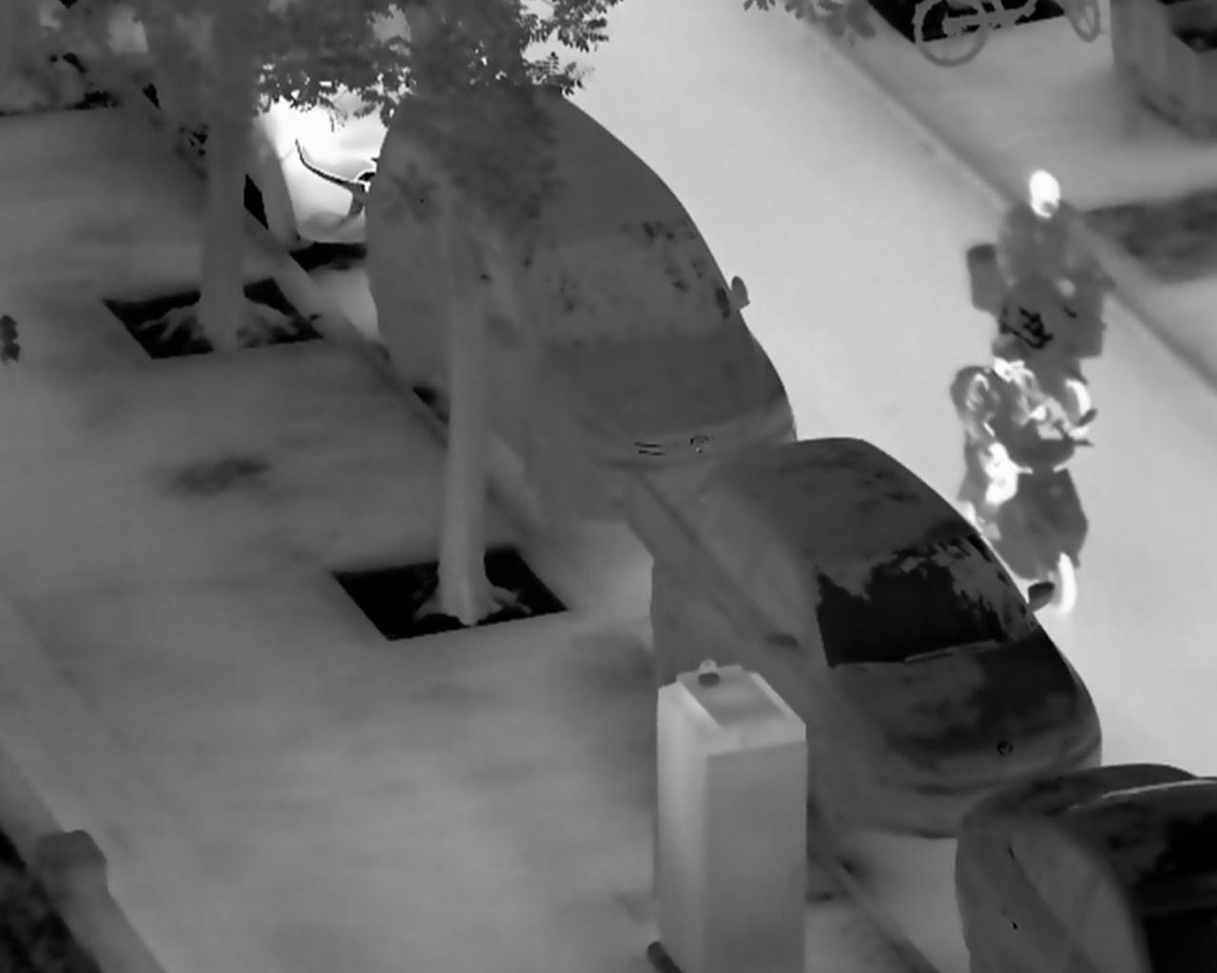person: (958, 324, 1064, 549), (994, 169, 1117, 322)
